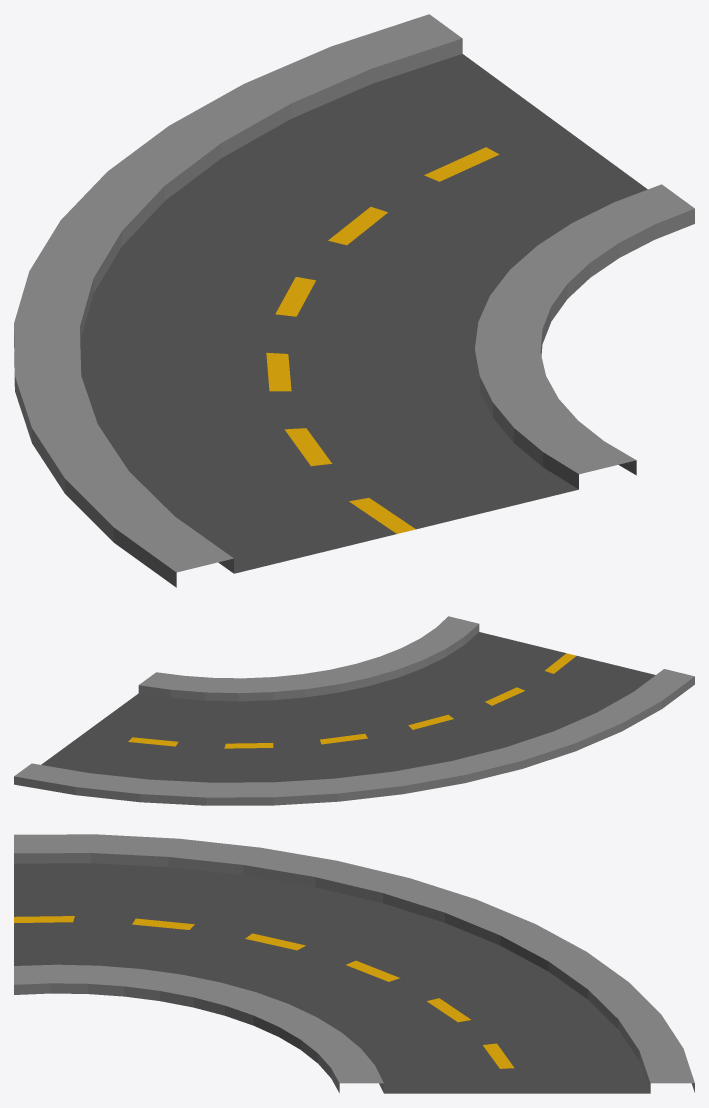
File: curvedRoad.glb
The picture shows the model from 3 angles, top to bottom: view 1: azimuth 30°, elevation 25°; view 2: azimuth 150°, elevation 25°; view 3: azimuth 270°, elevation 25°; orthographic projection. The views are drawn at different scales.
Parts seen in each view (by area): view 1: curved road; view 2: curved road; view 3: curved road.
Part boxes in pixels (x1,y1,x2,y2): curved road: (14,14,694,587); curved road: (14,616,694,805); curved road: (14,834,694,1093).
Bounding box in the file's own units: 31.14 × 0.5971 × 36.
